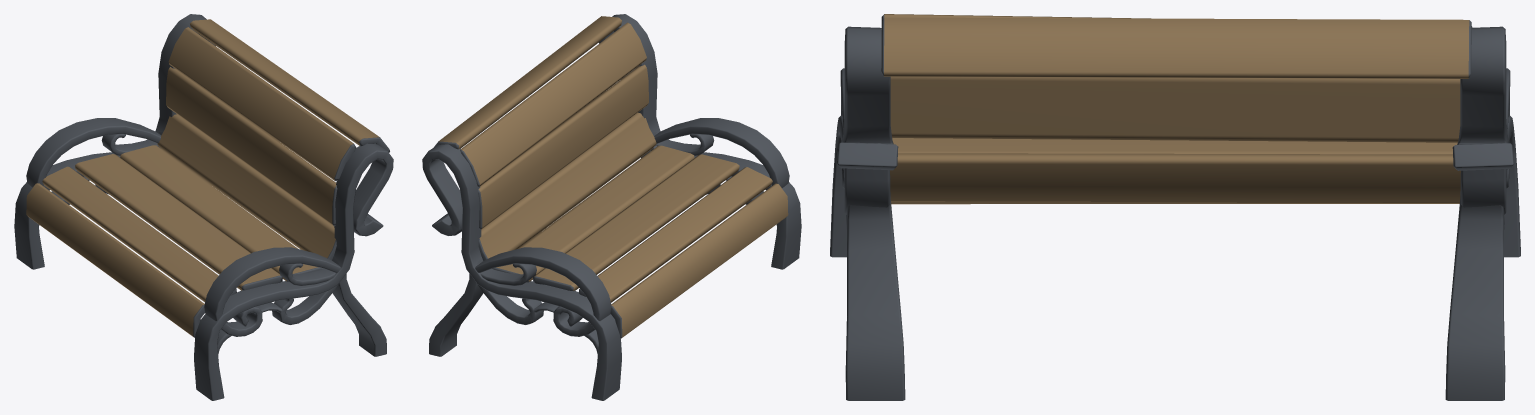
File: Bench.fbx
3 views of the same model, side by side, from view 1: azimuth 30°, elevation 25°; view 2: azimuth 150°, elevation 25°; view 3: azimuth 270°, elevation 25° (orthographic). The views are drawn at different scales.
Parts seen in each view (by area): view 1: Bench; view 2: Bench; view 3: Bench.
Part boxes in pixels (box(x1,y1,x2,y2)): Bench: box(14, 14, 393, 400); Bench: box(422, 14, 801, 400); Bench: box(830, 14, 1520, 400).
Bounding box in the file's own units: 94.4 × 96.41 × 163.
